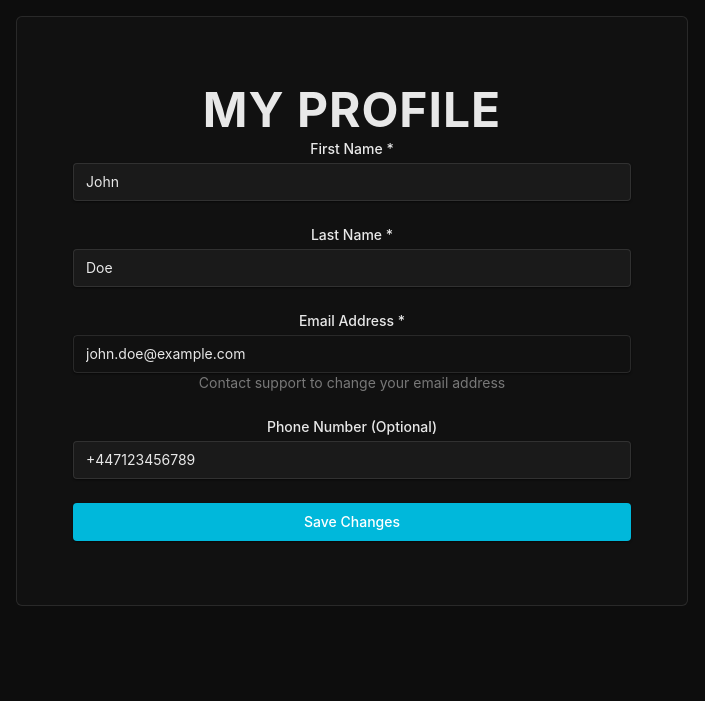
it: MyProfilePage › Form Submission › should handle update errors
Expected: the field showing "John" is shown, [73, 163, 631, 201]
Click the button "Save Changes": coordinates (352, 522) [73, 503, 631, 541]
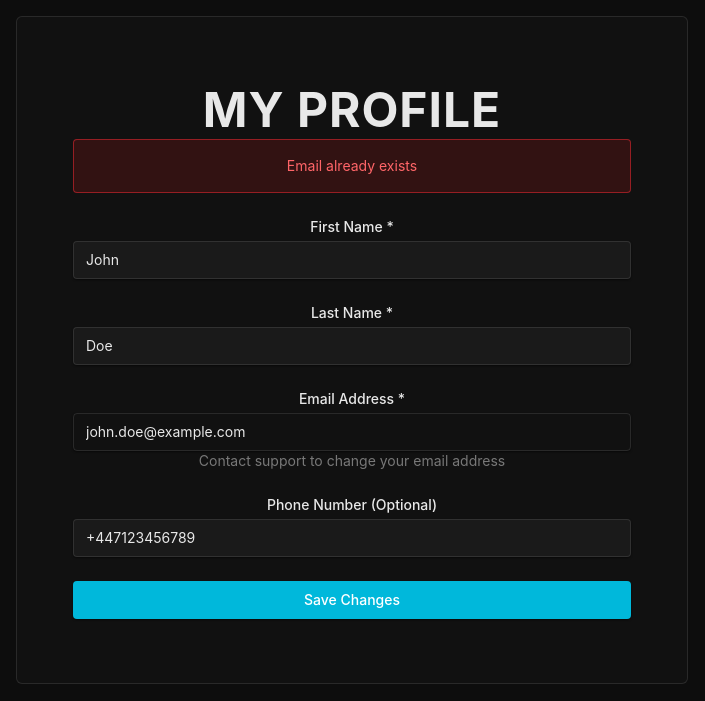
Result: the text "Email already exists" is shown at [287, 157, 417, 174]
